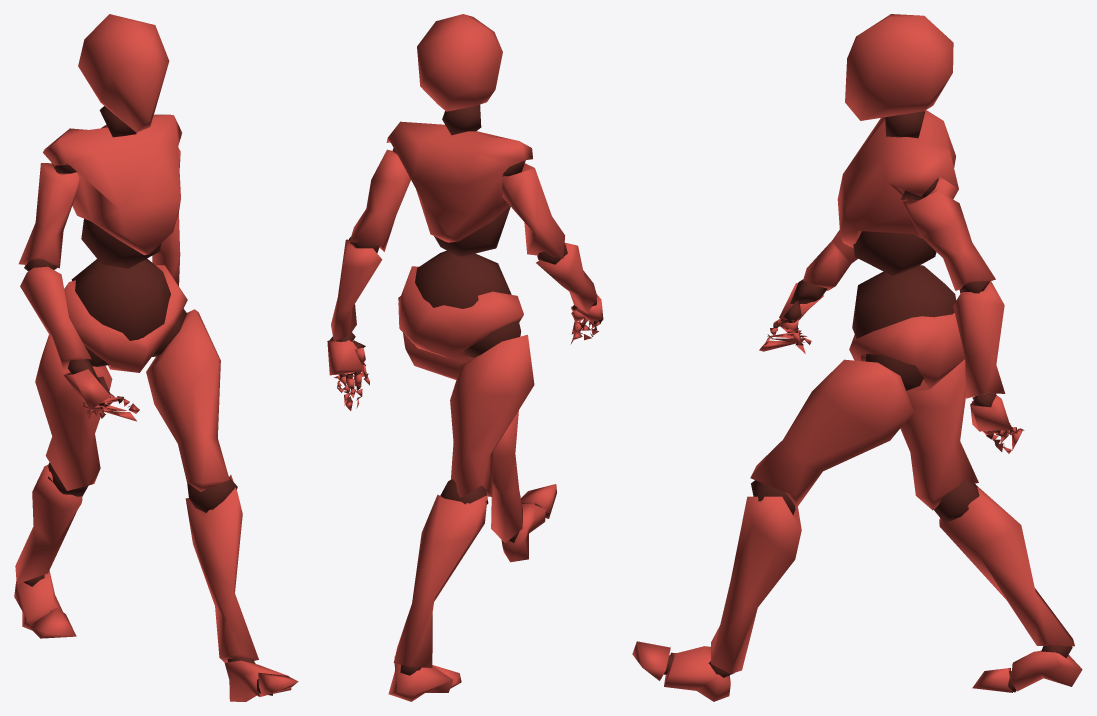
3 renders of one model, left to right at view 1: azimuth 30°, elevation 25°; view 2: azimuth 150°, elevation 25°; view 3: azimuth 270°, elevation 25°, orthographic. The views are drawn at different scales.
Parts seen in each view (by area): view 1: Beta_Surface; view 2: Beta_Surface; view 3: Beta_Surface.
Boxes of the visible parts, x1,y1,x2,y2 form: Beta_Surface: (14,14,298,701); Beta_Surface: (327,14,603,701); Beta_Surface: (632,14,1082,701).
Bounding box in the file's own units: 4.65 × 14.12 × 8.4.
